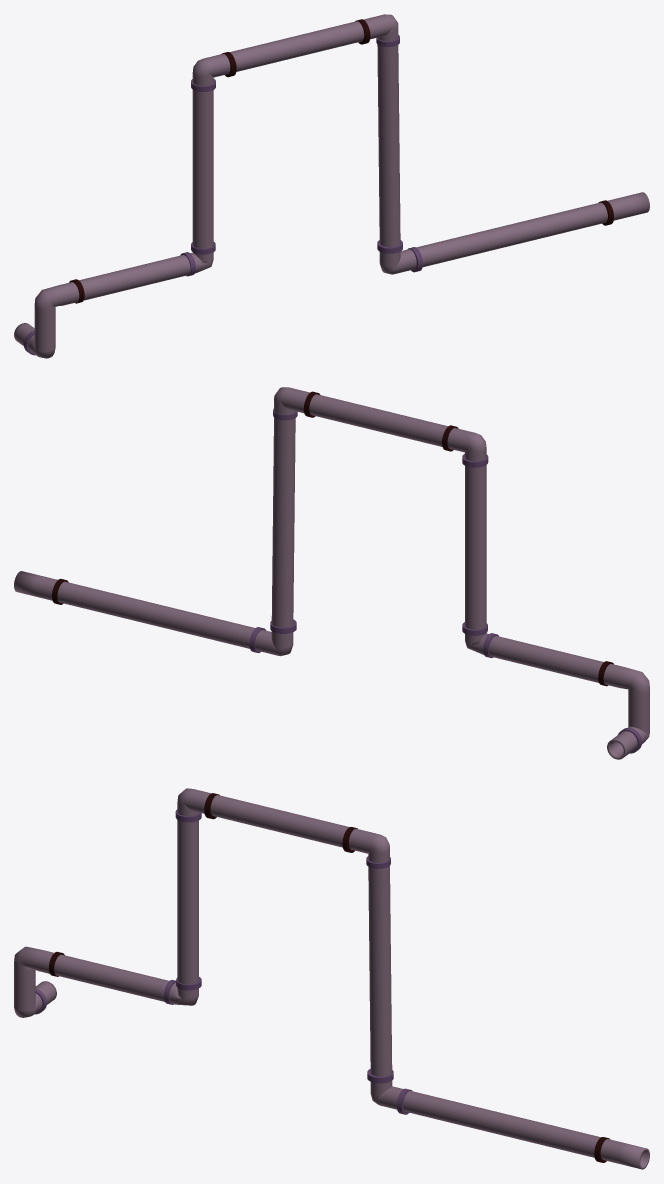
Rendered from パイプ１＿修正版.fbx.
The picture shows the model from 3 angles, top to bottom: view 1: azimuth 30°, elevation 25°; view 2: azimuth 150°, elevation 25°; view 3: azimuth 330°, elevation 25°; orthographic projection. The views are drawn at different scales.
Visible parts, largest first — view 1: NURBSパス.001; view 2: NURBSパス.001; view 3: NURBSパス.001.
Part boxes in pixels (left/top/right/bottom): NURBSパス.001: left=14, top=14, right=649, bottom=358; NURBSパス.001: left=14, top=387, right=649, bottom=759; NURBSパス.001: left=14, top=788, right=649, bottom=1169.
Bounding box in the file's own units: 16.01 × 6.6 × 1.31.
